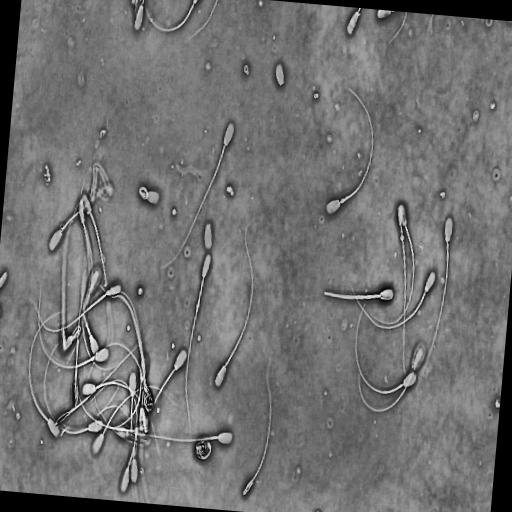coiled-tail: (59, 323, 83, 354), (72, 326, 81, 341), (139, 186, 148, 200)
dirt-particles: (139, 379, 158, 414), (193, 433, 215, 463), (225, 183, 236, 199), (243, 62, 251, 77), (311, 92, 320, 101)
distal-droplet: (400, 235, 404, 241), (196, 303, 199, 308)
loose-head: (202, 219, 214, 252), (274, 60, 286, 89), (141, 407, 150, 435)
normal: (159, 118, 237, 274), (52, 336, 145, 428), (214, 216, 256, 391), (91, 382, 181, 460), (324, 84, 376, 218), (36, 283, 111, 372), (417, 213, 455, 387), (43, 333, 105, 439), (25, 303, 72, 441), (354, 298, 418, 397), (86, 376, 139, 493), (350, 269, 439, 334), (371, 200, 416, 326), (184, 253, 213, 433), (29, 280, 123, 334), (241, 348, 274, 498), (47, 181, 108, 257), (145, 346, 190, 420), (80, 190, 109, 291), (396, 202, 409, 383), (133, 428, 236, 448), (80, 379, 145, 408), (81, 281, 104, 357), (322, 285, 395, 304), (128, 368, 137, 502), (136, 183, 162, 206)
proximal-droplet: (340, 198, 346, 204)
